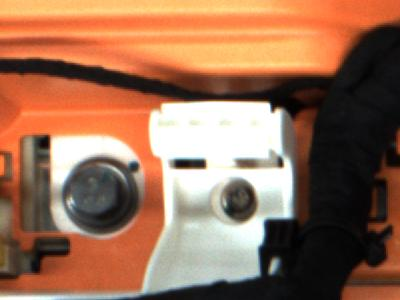nut_b: (57, 153, 145, 235)
